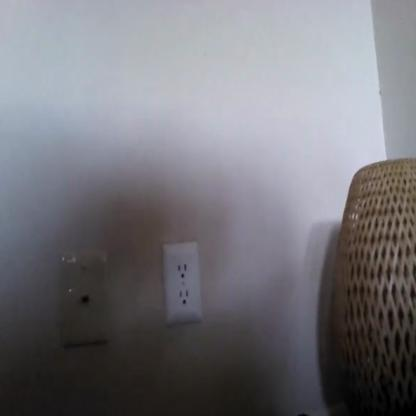OUTLET: (162, 244, 200, 320)
